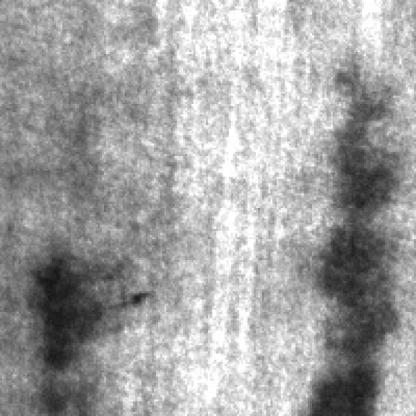patches: (320, 73, 400, 368), (34, 246, 115, 370), (308, 343, 393, 414)
